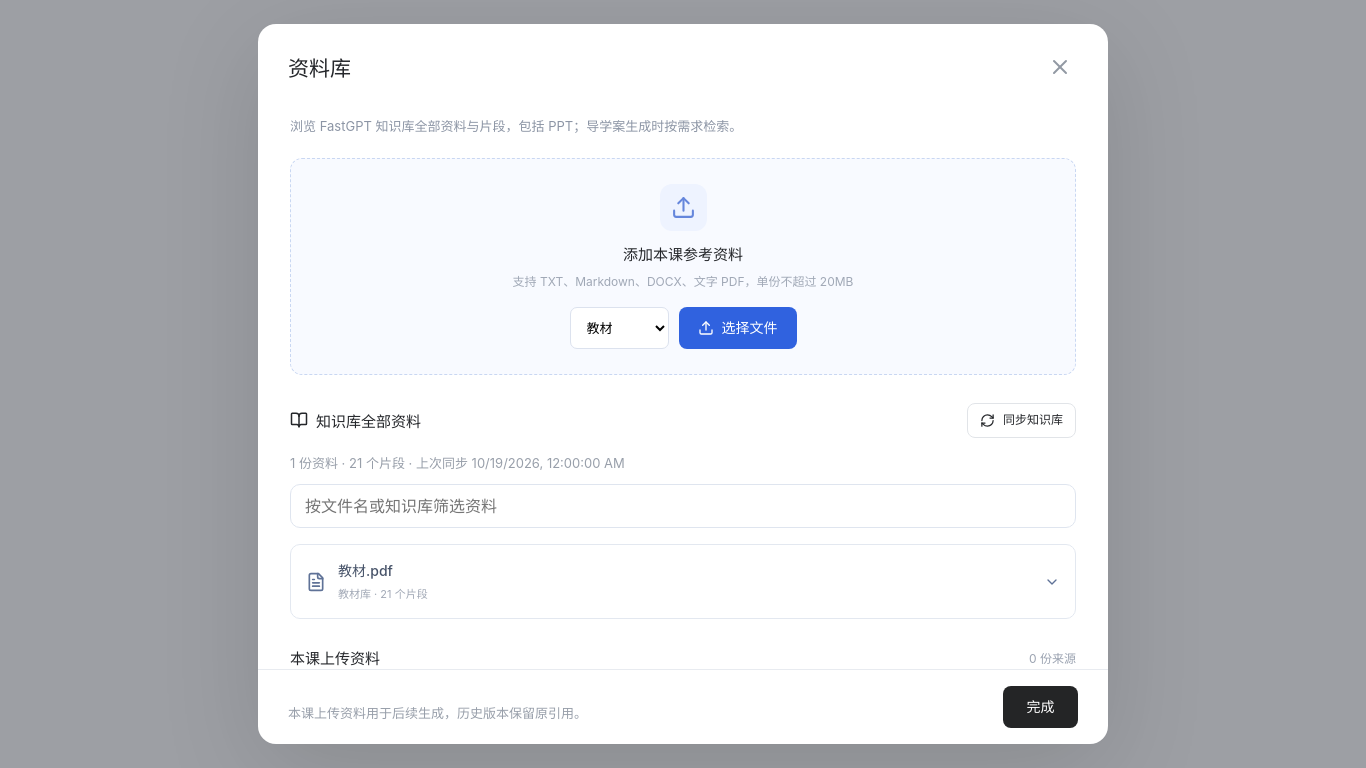
Test case: large files expose later chunks without truncation
The image size is (1366, 768).
What coordinates should you click on to do the following:
click the button "教材.pdf 教材库 · 21 个片段"
I would click on:
 (365, 570)
Its box is [291,545,1075,618].
(page scrolled)
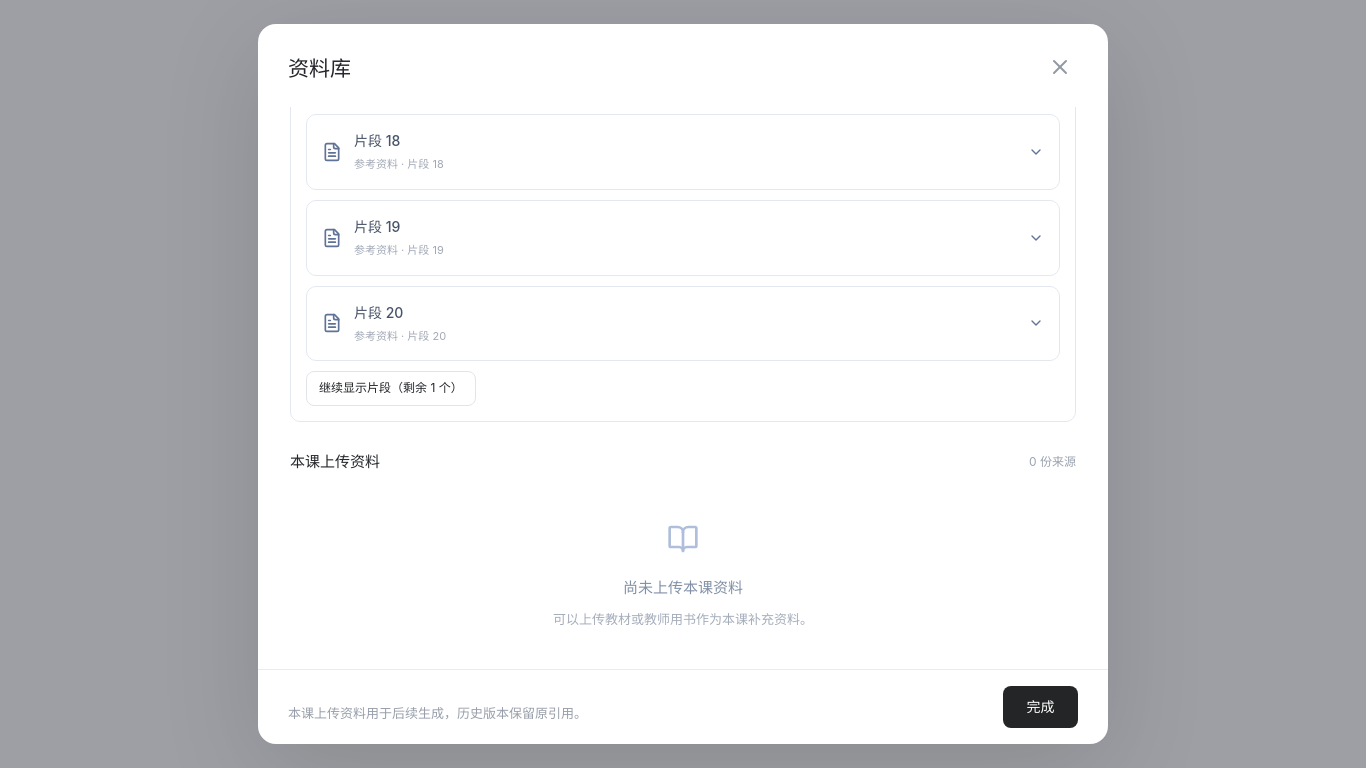
Expected: the button "片段 21" is not shown
What coordinates should you click on to do the following:
click the button "继续显示片段（剩余 1 个）"
I would click on:
 (391, 388)
Its box is [306,371,476,406].
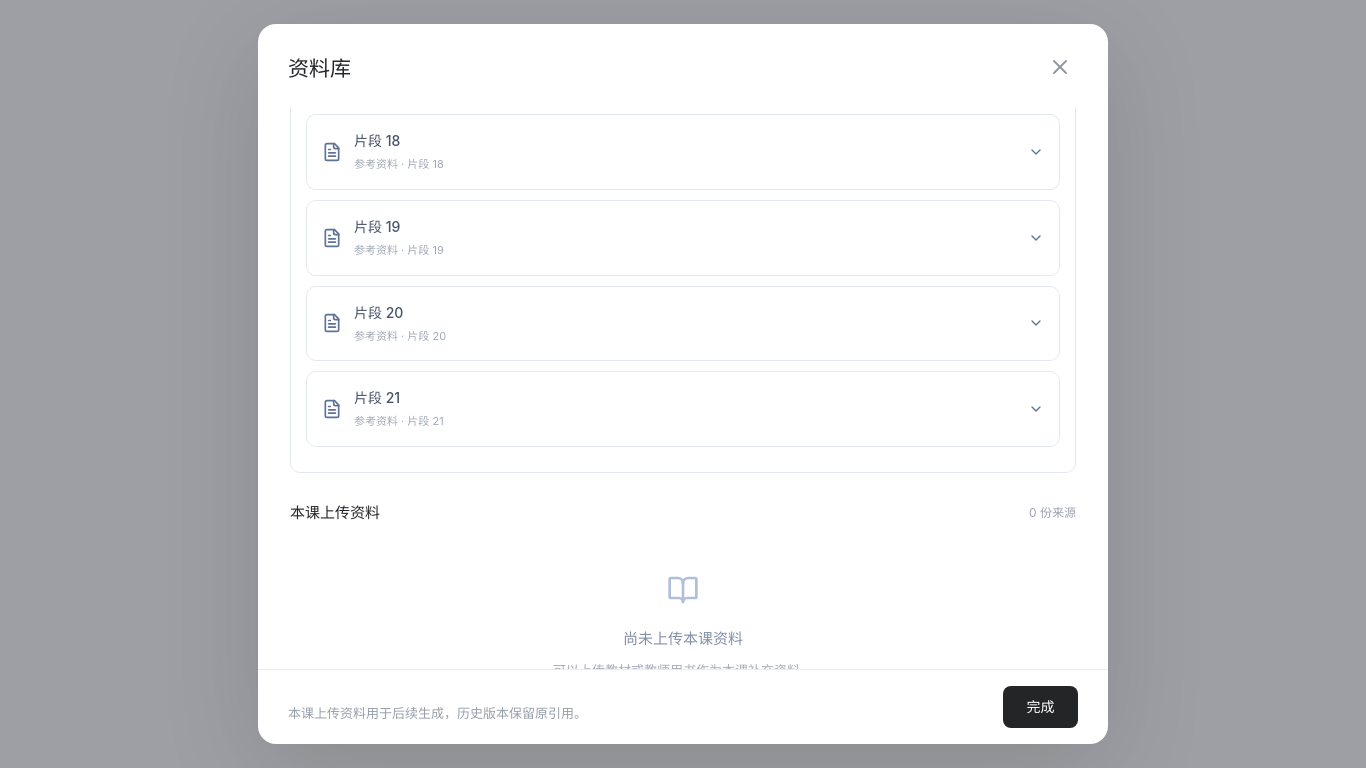
What coordinates should you click on to do the following:
click the button "片段 21 参考资料 · 片段 21"
I would click on:
 (377, 398)
Its box is [307,372,1059,446].
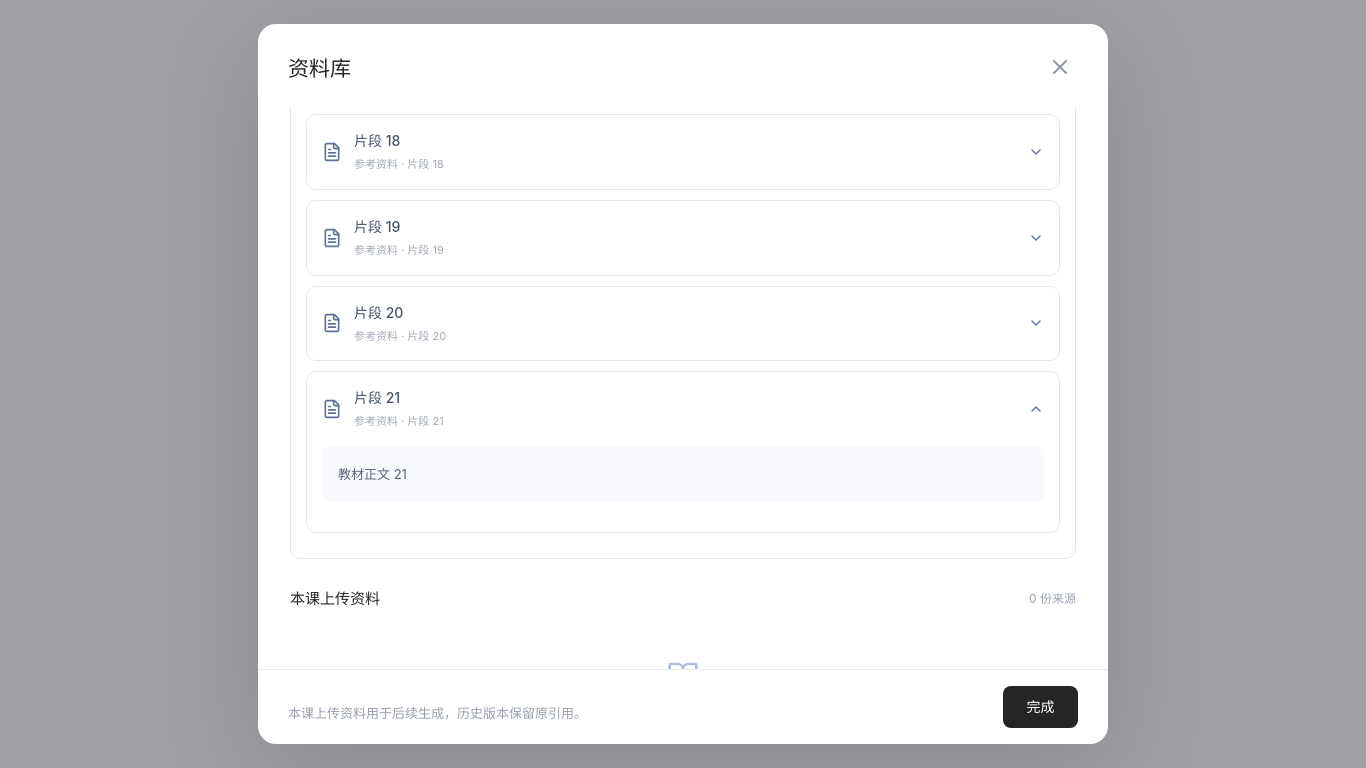
Expected: the text "教材正文 21" is shown, [338,466,407,482]
